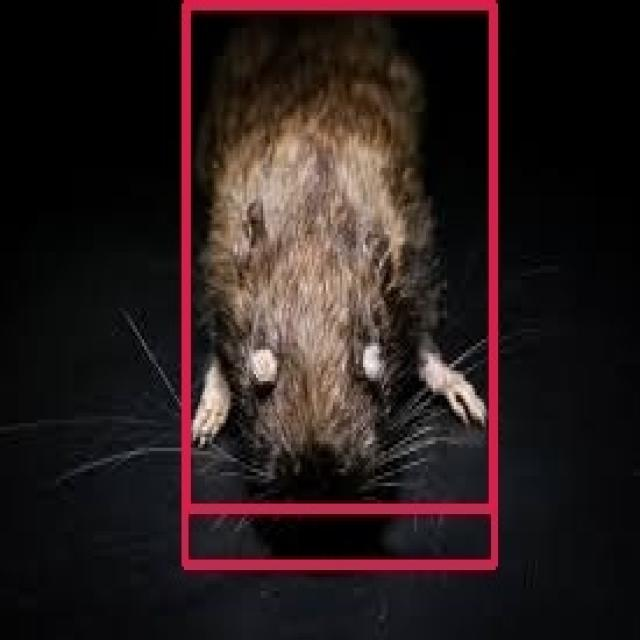rat: (182, 0, 491, 560), (184, 0, 489, 504)
